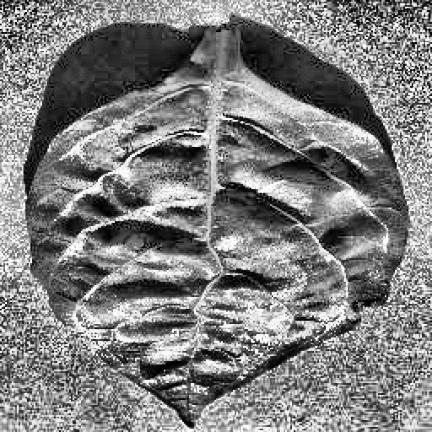leaf: (27, 27, 407, 429)
